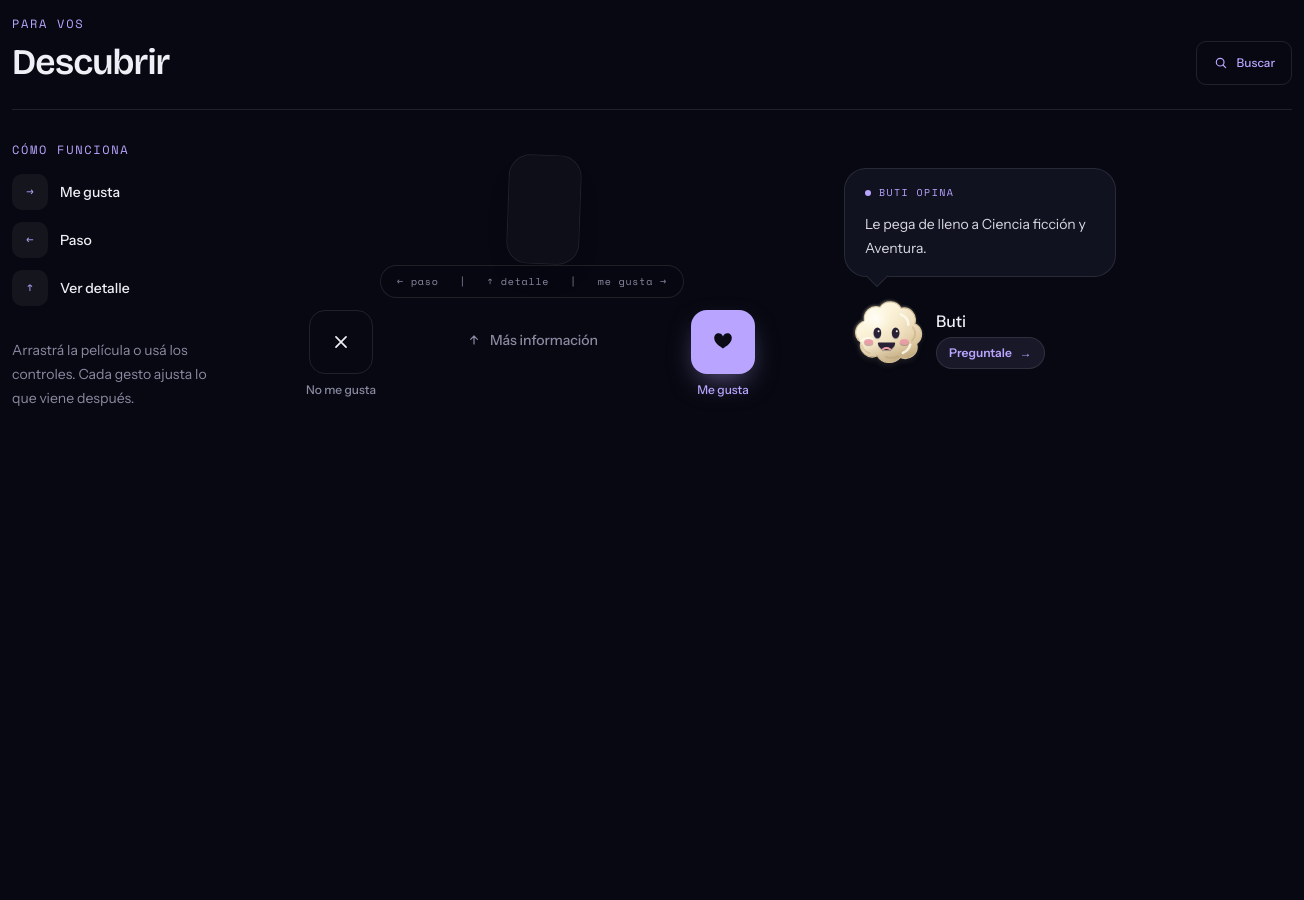
Test: DiscoverScreen search › sends a result to the film's own address
Click the button with aria-label "Abrir buscador de películas". click: (1244, 63)
box: [1196,41,1292,85]
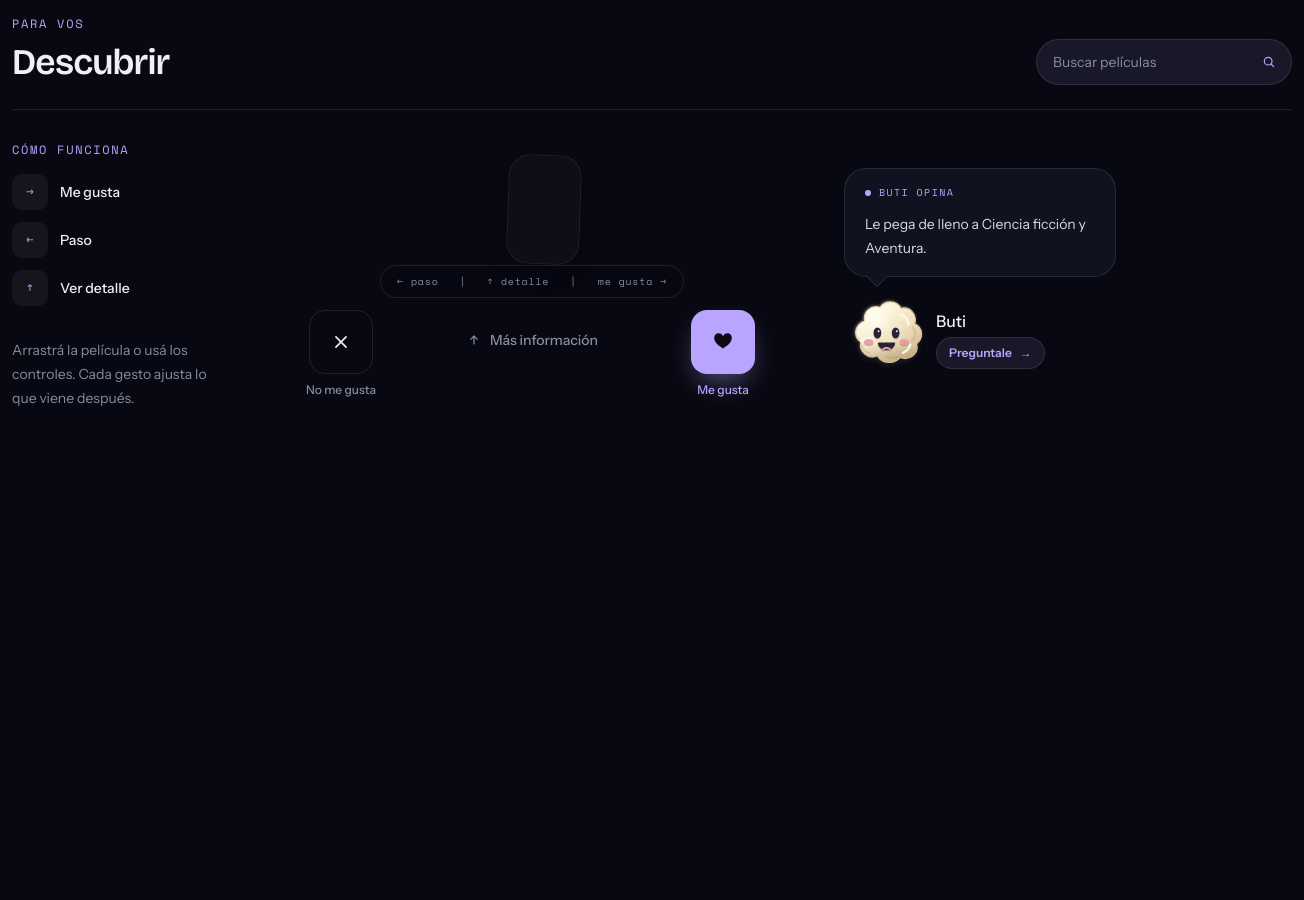
Type "dune" into the field labelled "Buscar películas". click: (1144, 62)
box: [1041,40,1247,84]
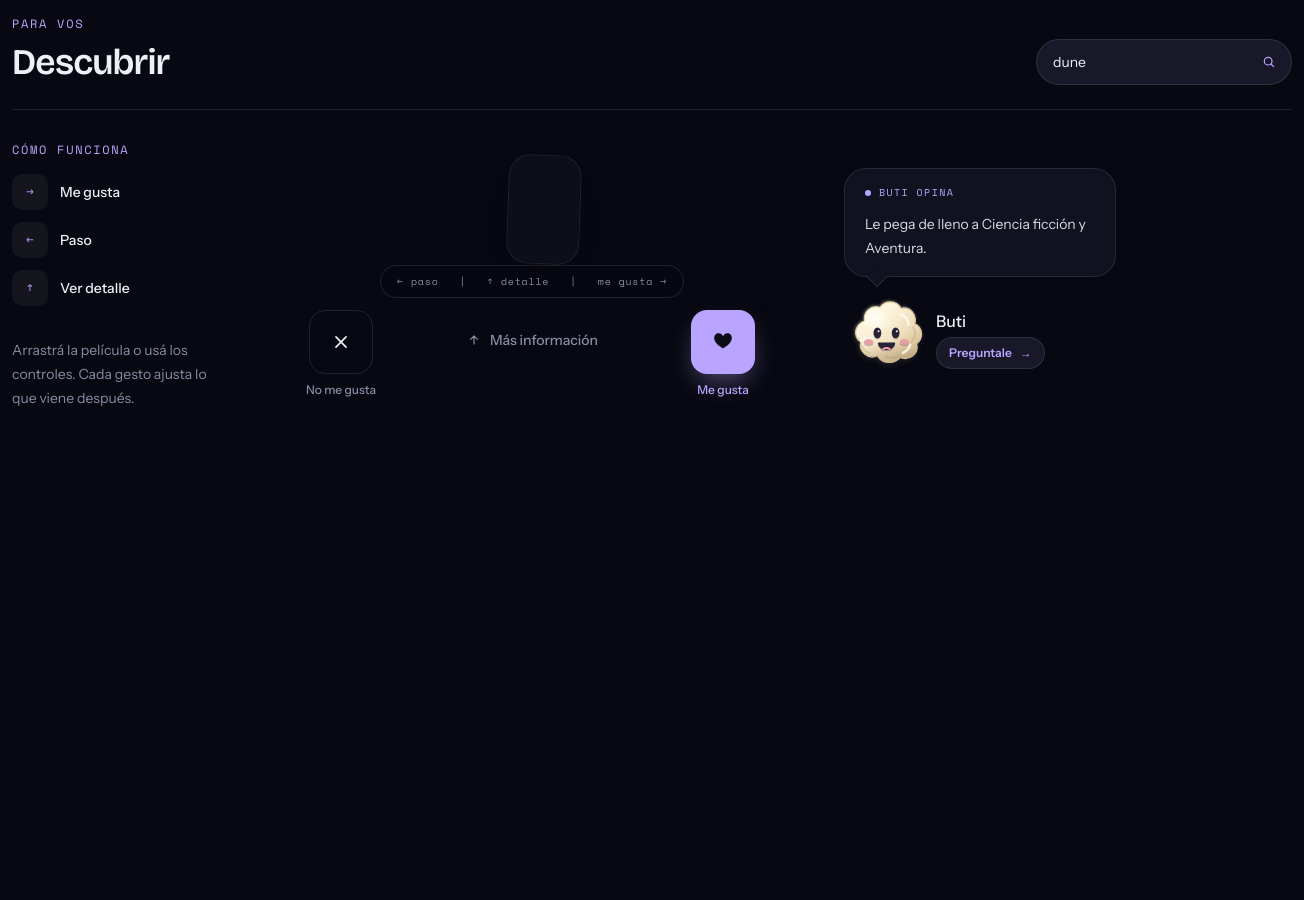
Submit the form, box [1036,39,1292,85]
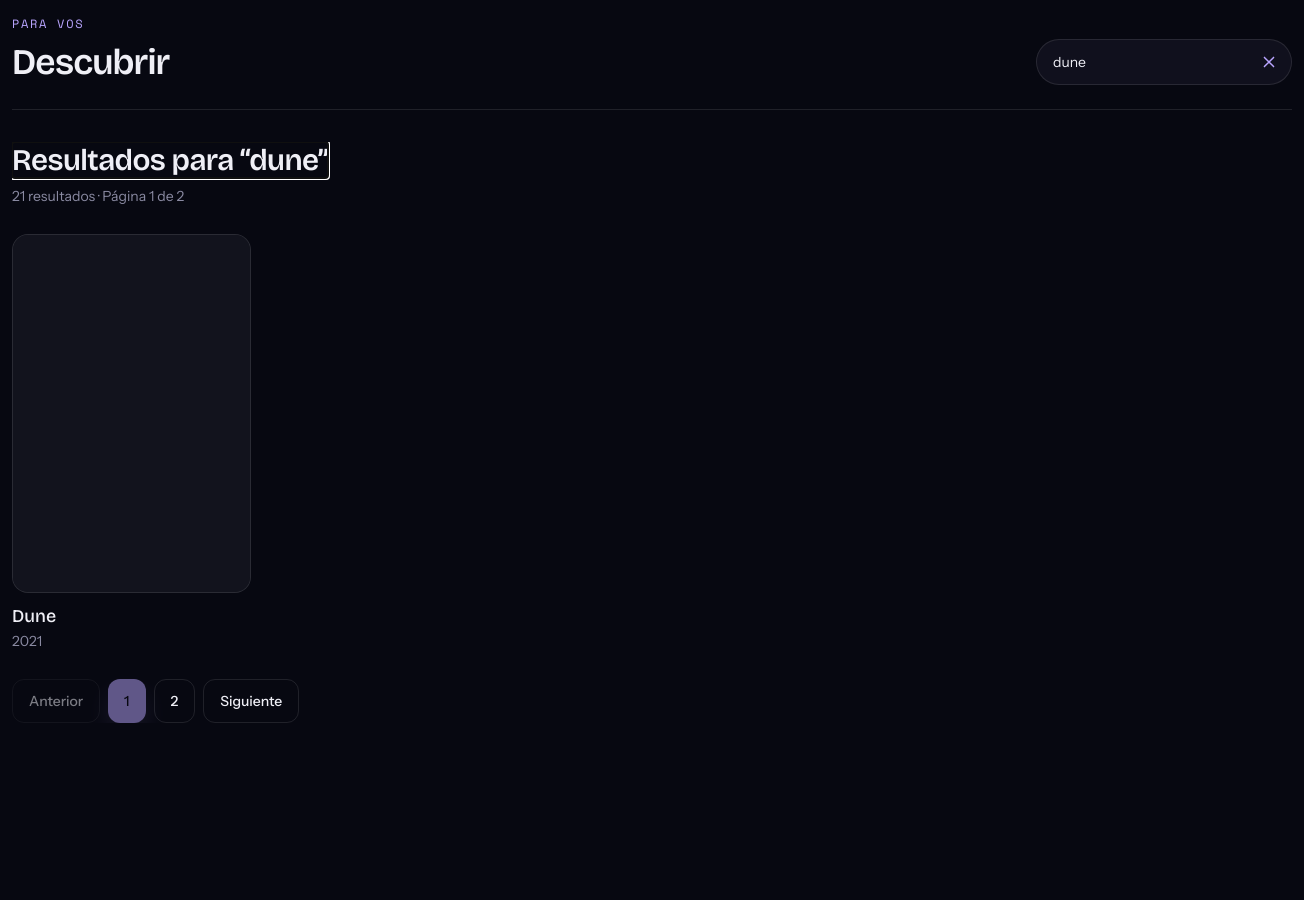
Now the heading "Resultados para “dune”" is shown, box [12,142,328,178]
